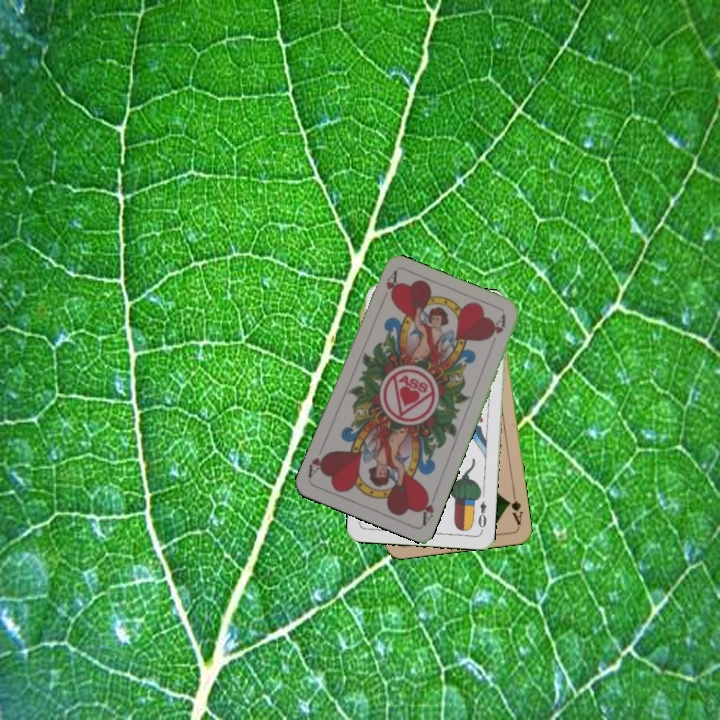EO: (474, 497, 489, 533)
GA: (504, 488, 525, 528)
HA: (416, 488, 440, 527), (377, 268, 400, 307)
